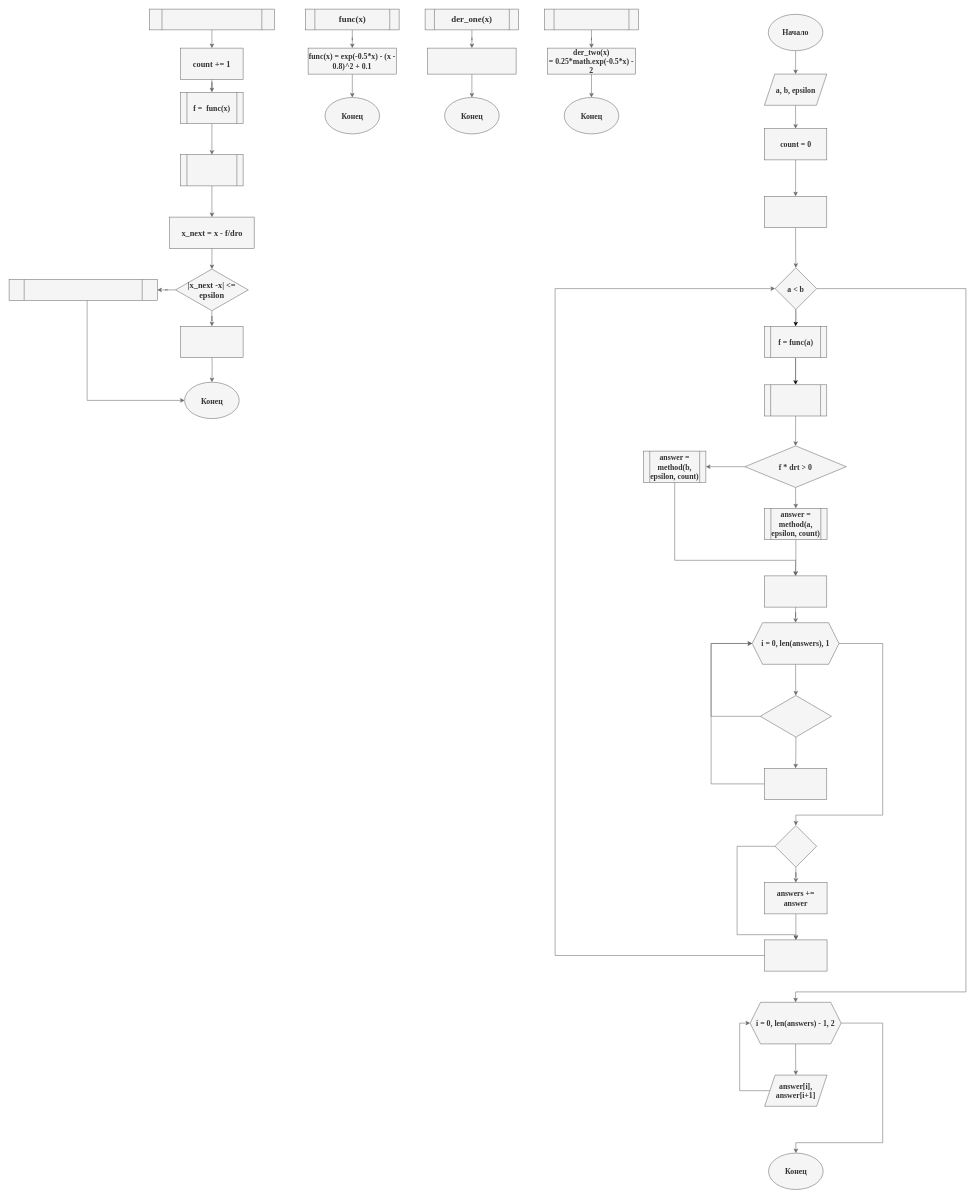
This 979x1199 diagram has some shape labels left out. Each missing label, with the centre of its shape:
a += epsilon: (x=795, y=955)
answer[0] == answers[i]: (x=795, y=716)
answers = []: (x=795, y=212)
der_one(x) = -0.5*exp(-0.5*x) - 2*x + 1.6: (x=471, y=61)
der_two (x): (x=591, y=19)
dro = der_one(x): (x=211, y=170)
drt = der_two(a): (x=795, y=400)
flag = 0: (x=795, y=591)
flag = 1: (x=795, y=784)
flag == 0: (x=796, y=846)
method(x, epsilon, count): (x=211, y=19)
method(x, epsilon, count) = [ x_next, count]: (x=211, y=342)
method(x_next, epsilon, count): (x=83, y=289)
